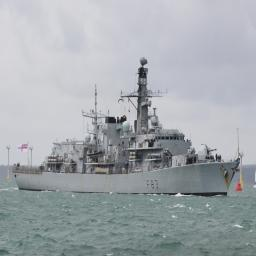Fragata: (13, 56, 244, 195)
